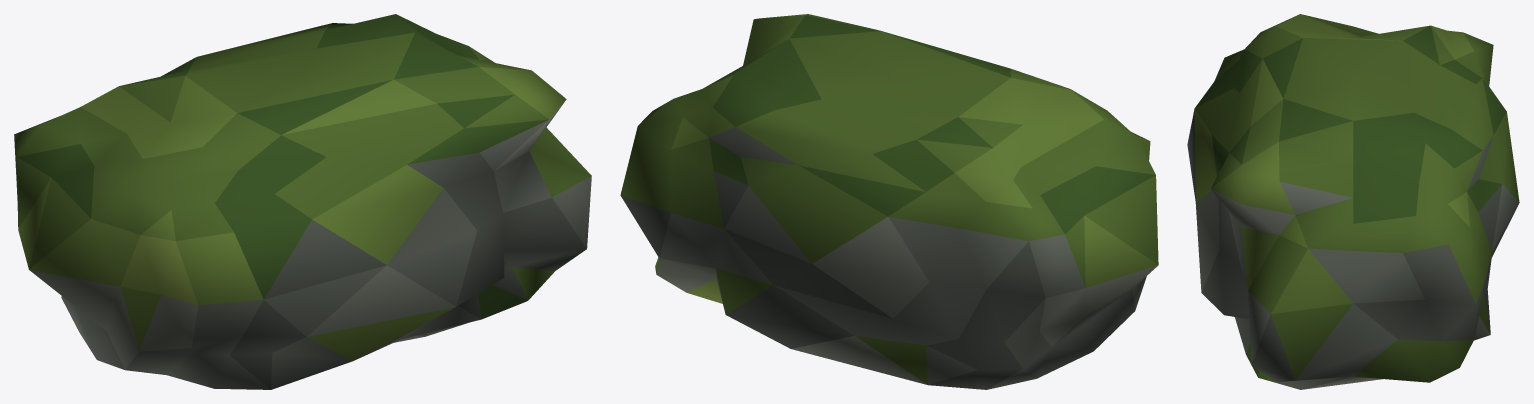
File: forest-rock-1.glb
3 renders of one model, left to right at view 1: azimuth 30°, elevation 25°; view 2: azimuth 150°, elevation 25°; view 3: azimuth 270°, elevation 25°, orthographic. The views are drawn at different scales.
Visible parts, largest first — view 1: forest-rock-1/0; view 2: forest-rock-1/0; view 3: forest-rock-1/0.
Boxes of the visible parts, <box> form: forest-rock-1/0: <box>14,14,591,389</box>; forest-rock-1/0: <box>620,14,1158,389</box>; forest-rock-1/0: <box>1187,14,1519,389</box>.
Bounding box in the file's own units: 1.25 × 0.6462 × 0.7354.
